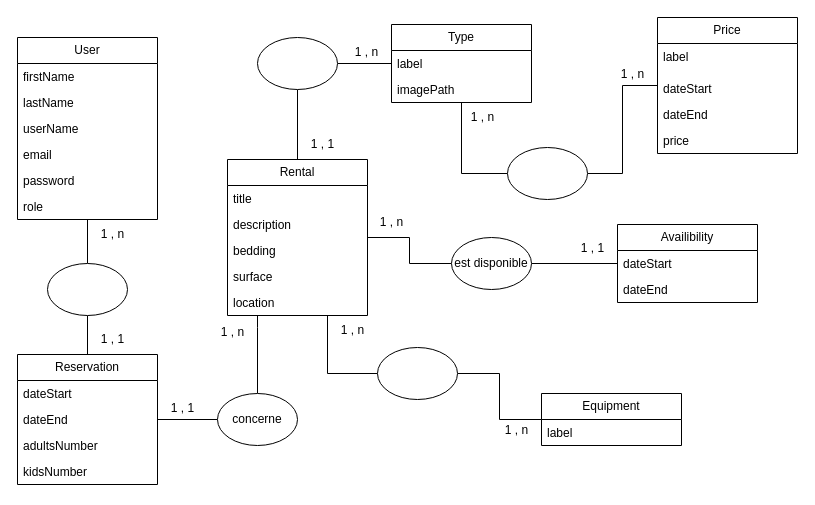
This 815x505 diagram has some shape labels left out. Here are the shapes that lost their labels. From the top down, the centre of each, then its label:
At point 297,63: "est".
At point 547,173: "coûte".
At point 87,289: "effectue".
At point 417,373: "comporte".
